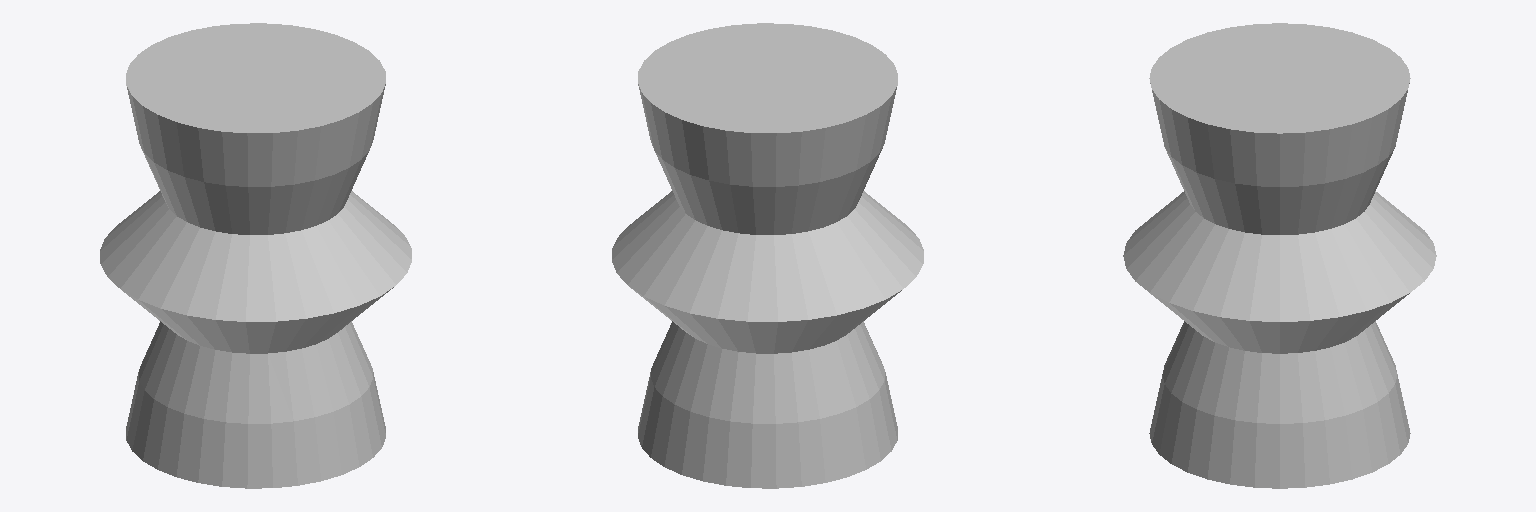
Rendered from Ridged Hourglass.obj.
3 renders of one model, left to right at view 1: azimuth 30°, elevation 25°; view 2: azimuth 150°, elevation 25°; view 3: azimuth 270°, elevation 25°, orthographic.
Parts seen in each view (by area): view 1: timycountywounty_Cylinder; view 2: timycountywounty_Cylinder; view 3: timycountywounty_Cylinder.
Part boxes in pixels (x1,y1,x2,y2): timycountywounty_Cylinder: (100,23,411,488); timycountywounty_Cylinder: (612,23,923,488); timycountywounty_Cylinder: (1123,23,1436,488).
Size of the model in its own units: 1.2 by 1.5 by 1.2.